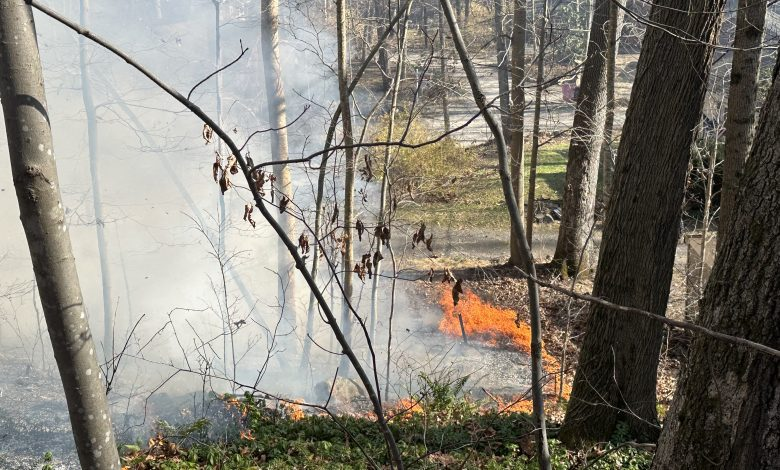fire: (402, 243, 607, 397), (185, 358, 554, 439)
